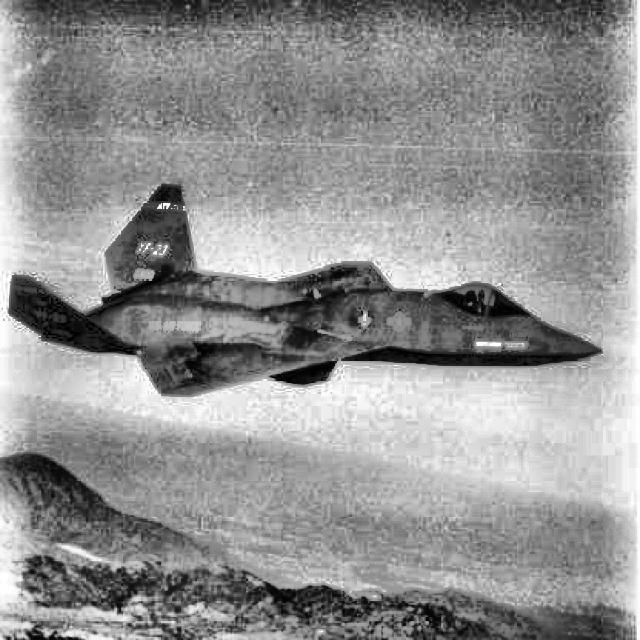YF23: (9, 184, 602, 396)
